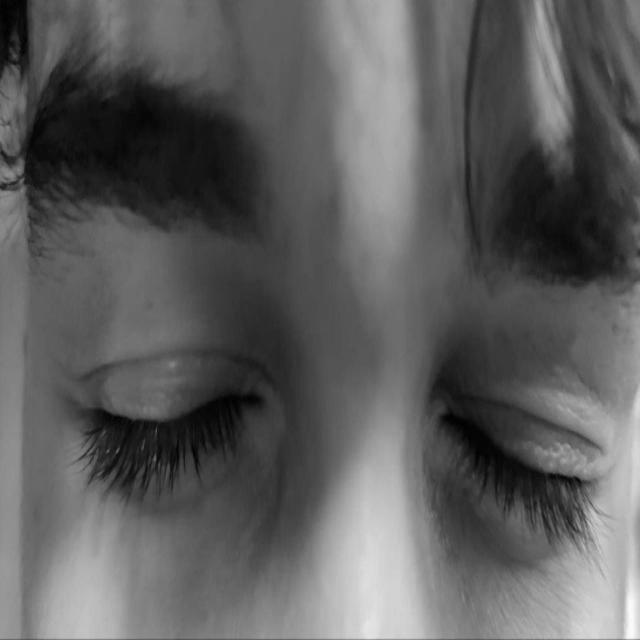real: (36, 180, 614, 600)
